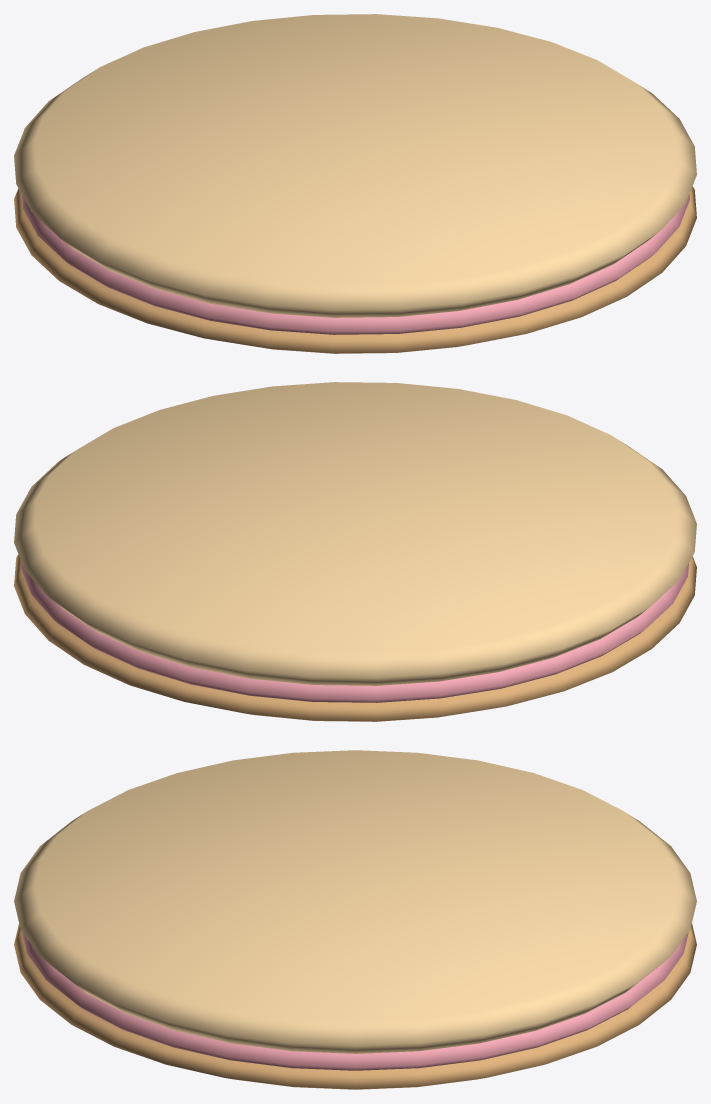
The model's file is PressurePad.fbx.
3 renders of one model, top to bottom at view 1: azimuth 30°, elevation 25°; view 2: azimuth 150°, elevation 25°; view 3: azimuth 270°, elevation 25°, orthographic.
Visible parts, largest first — view 1: Flat cookie cap, Biscuit base, Strawberry filling; view 2: Flat cookie cap, Biscuit base, Strawberry filling; view 3: Flat cookie cap, Biscuit base, Strawberry filling.
Part boxes in pixels (x1,y1,x2,y2): Flat cookie cap: [14, 14, 696, 317]; Biscuit base: [14, 186, 696, 353]; Strawberry filling: [22, 194, 689, 334]; Flat cookie cap: [14, 382, 696, 685]; Biscuit base: [14, 554, 696, 721]; Strawberry filling: [21, 562, 688, 702]; Flat cookie cap: [14, 750, 696, 1053]; Biscuit base: [14, 923, 696, 1089]; Strawberry filling: [22, 932, 688, 1070].
Size of the model in its own units: 0.1 by 0.0115 by 0.1.
